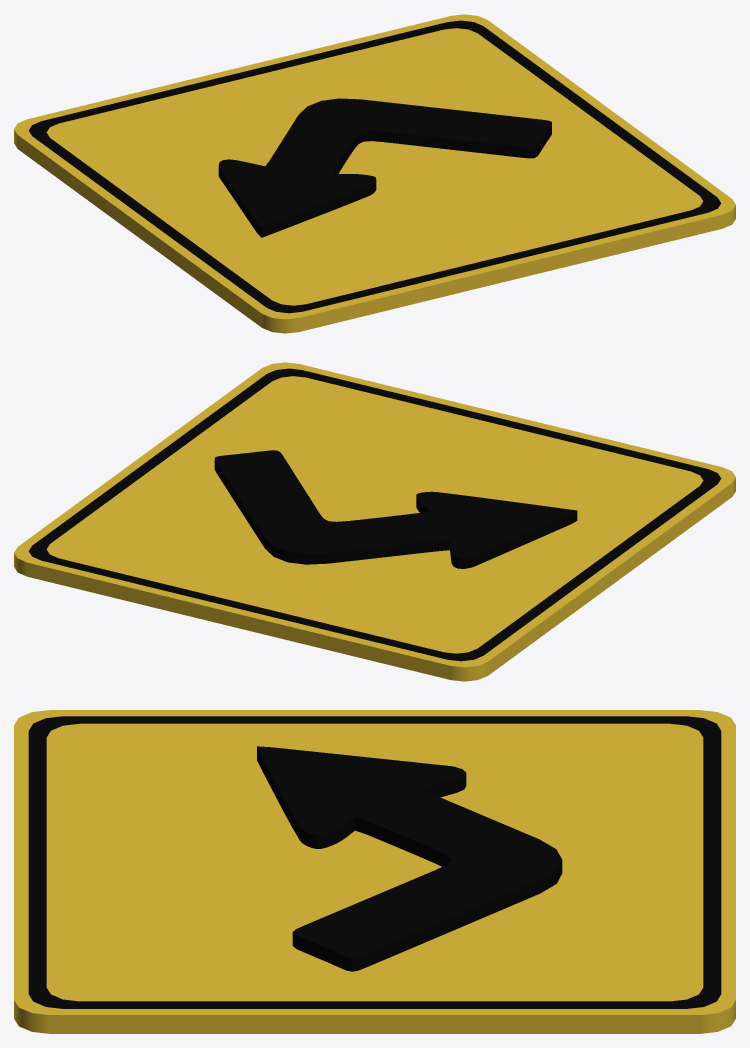
Rendered from left_turn_sign.fbx.
3 renders of one model, top to bottom at view 1: azimuth 30°, elevation 25°; view 2: azimuth 150°, elevation 25°; view 3: azimuth 270°, elevation 25°, orthographic. The views are drawn at different scales.
Visible parts, largest first — view 1: square_yellow_sign, LeftTurn; view 2: square_yellow_sign, LeftTurn; view 3: square_yellow_sign, LeftTurn.
Boxes of the visible parts, left/top/right/bottom form: square_yellow_sign: left=14, top=14, right=735, bottom=333; LeftTurn: left=218, top=98, right=551, bottom=237; square_yellow_sign: left=14, top=362, right=735, bottom=681; LeftTurn: left=214, top=450, right=577, bottom=568; square_yellow_sign: left=14, top=710, right=735, bottom=1033; LeftTurn: left=257, top=746, right=562, bottom=971.
Size of what is drawn, in the model's own units: 70.96 by 3.54 by 70.96.
